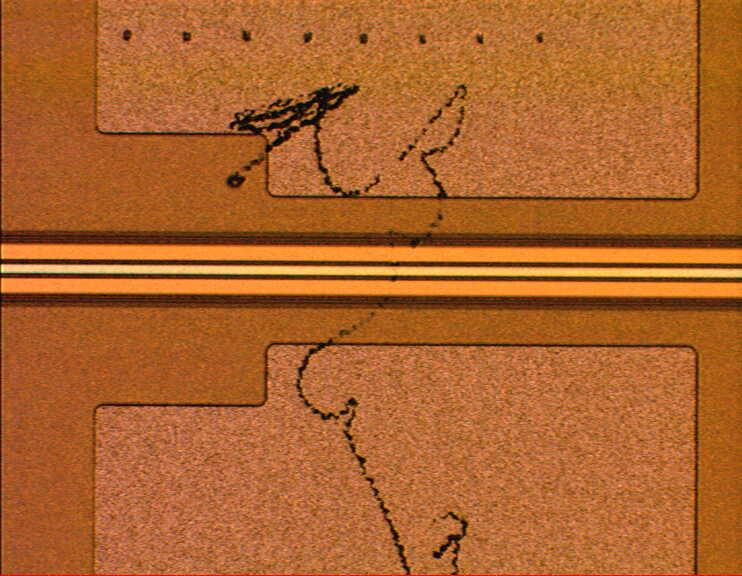SCRATCH: (220, 71, 478, 576)
